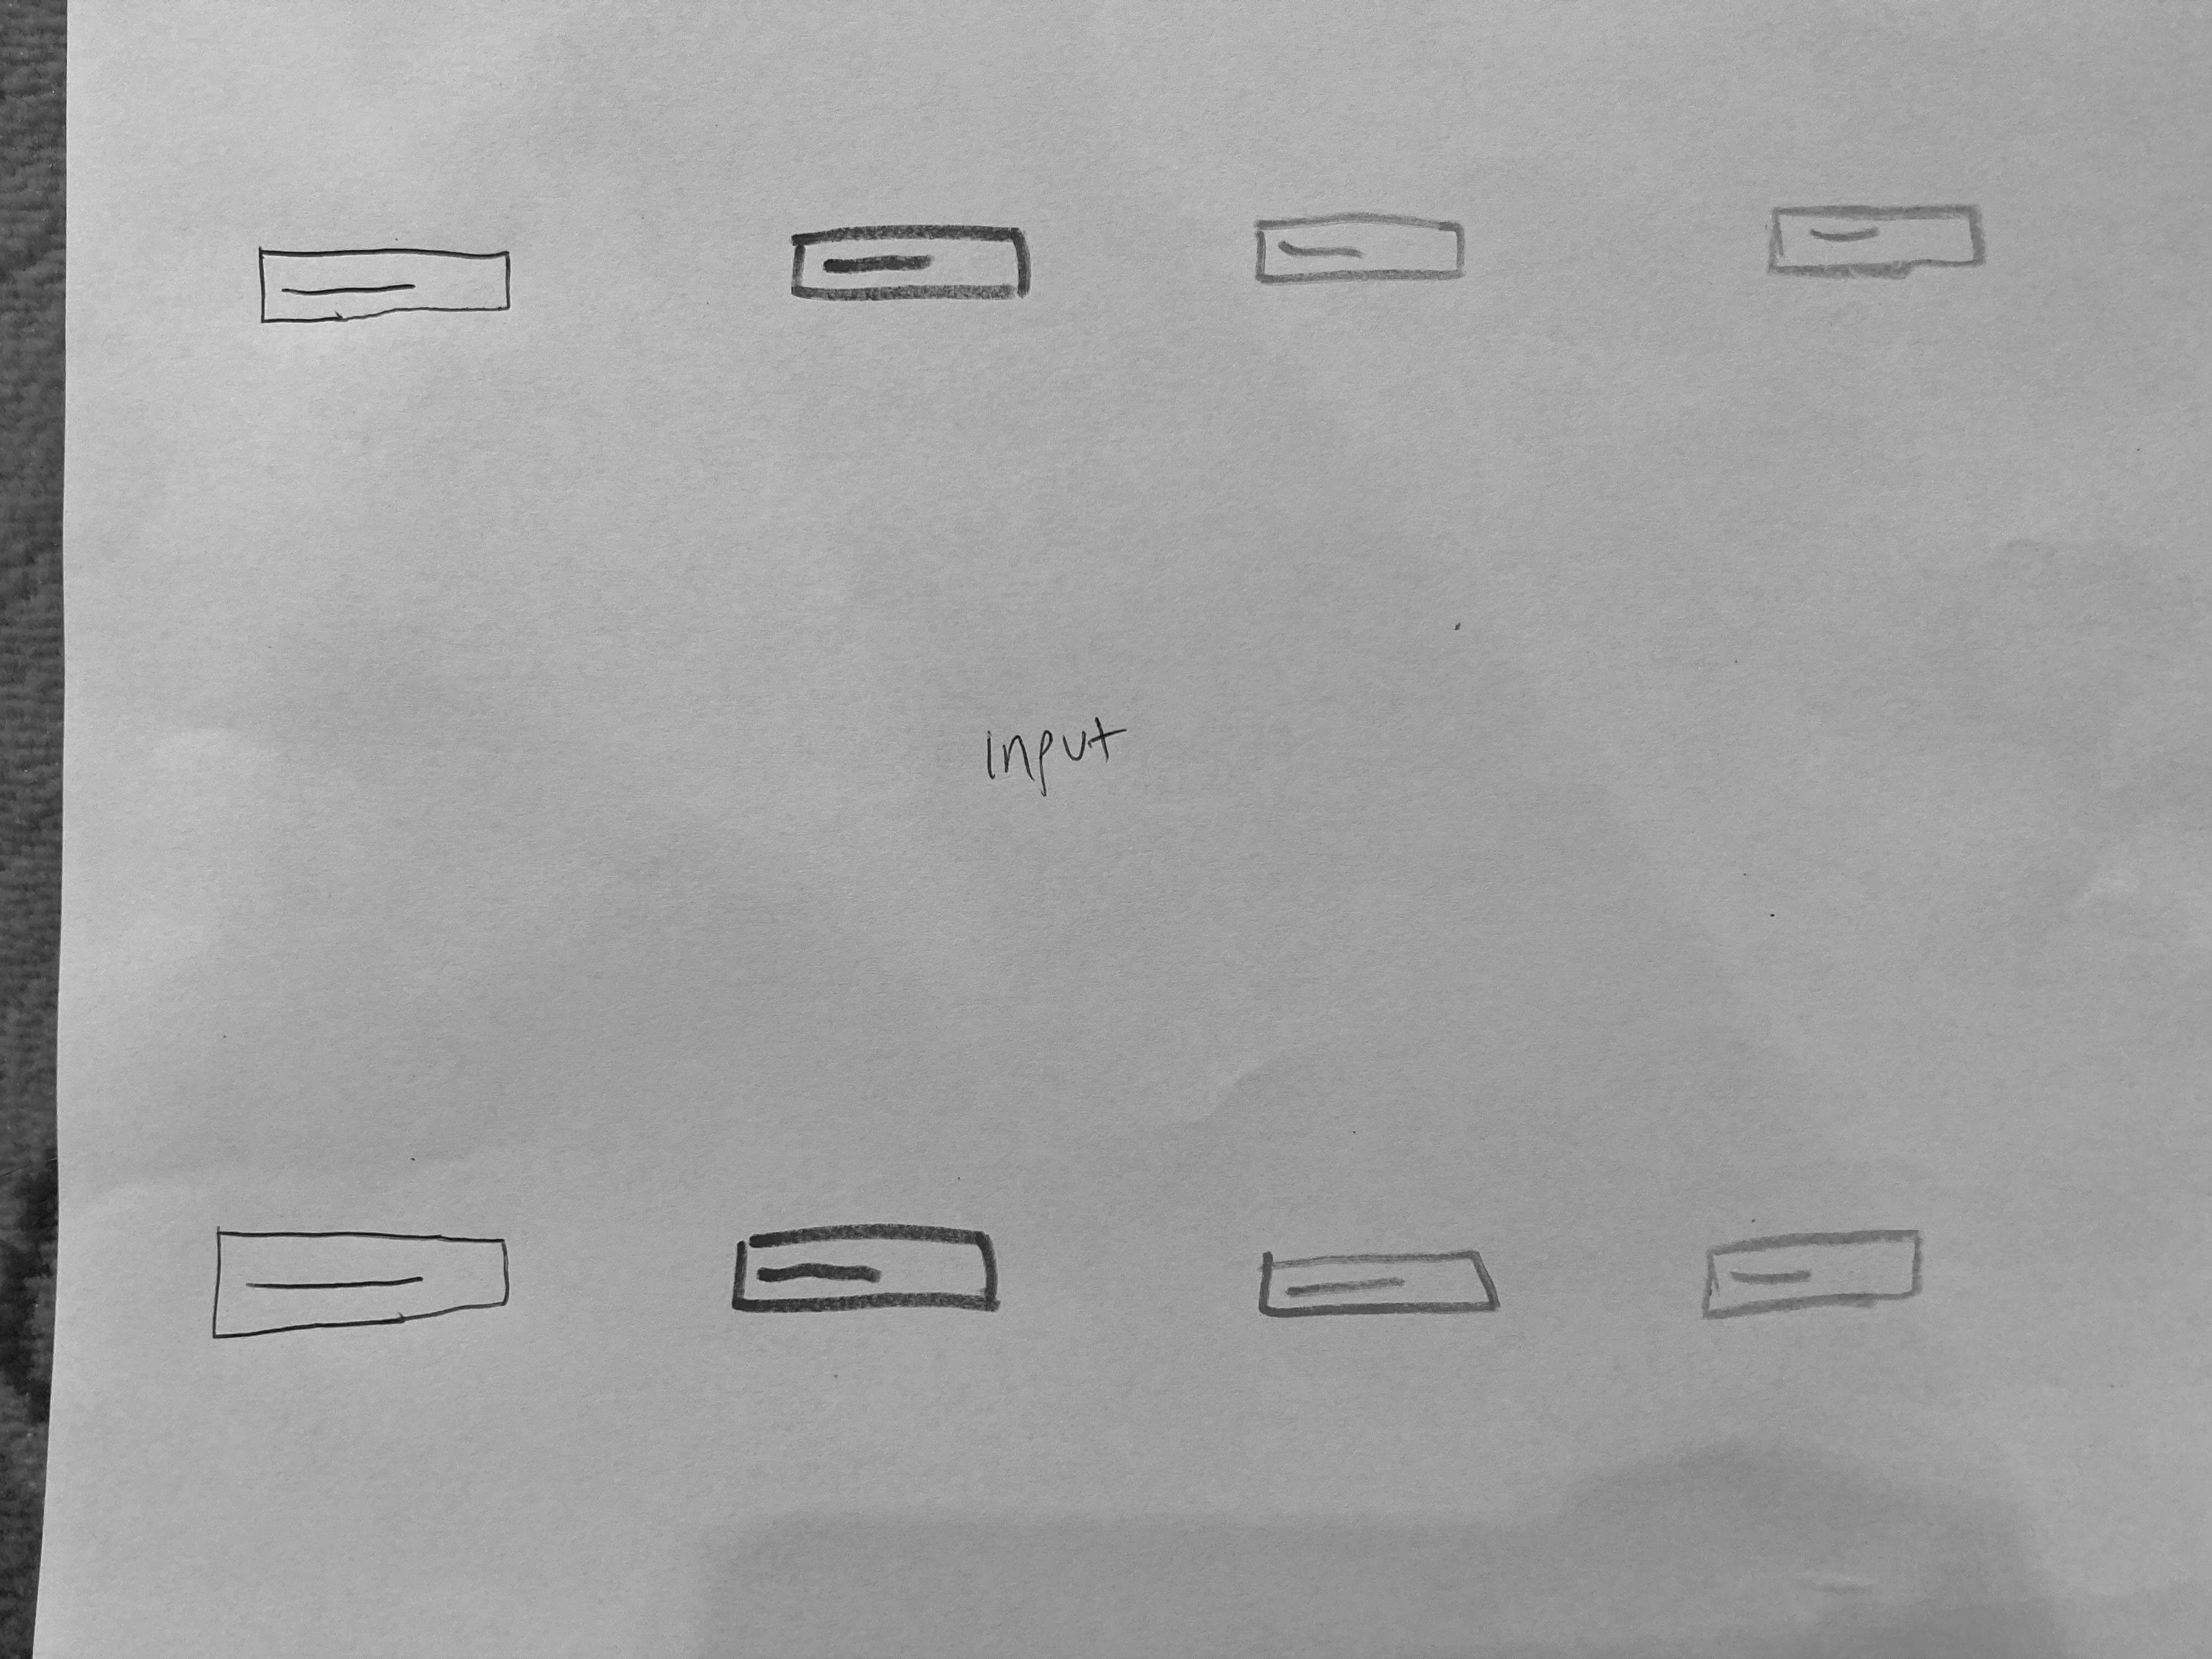input: (202, 1209, 514, 1340), (732, 1215, 1008, 1337), (251, 230, 519, 335), (1693, 1220, 1935, 1326), (1252, 1237, 1510, 1333), (782, 221, 1047, 312), (1237, 207, 1482, 298), (1763, 200, 1998, 284)
